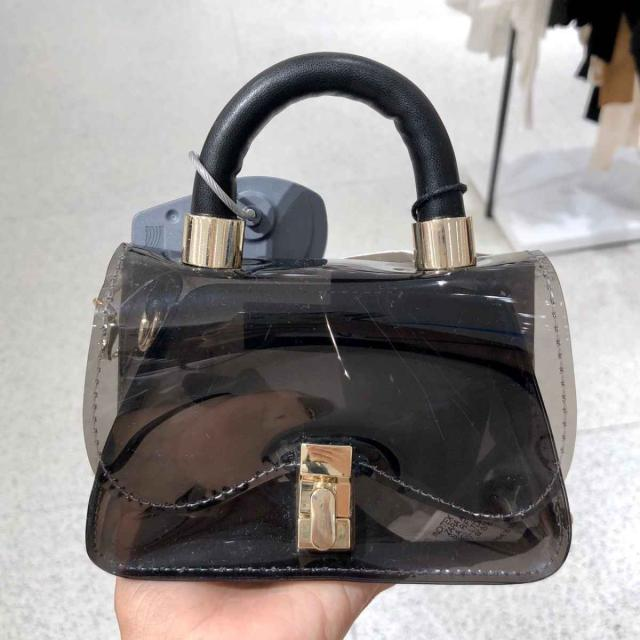Handbag: (82, 174, 581, 596)
